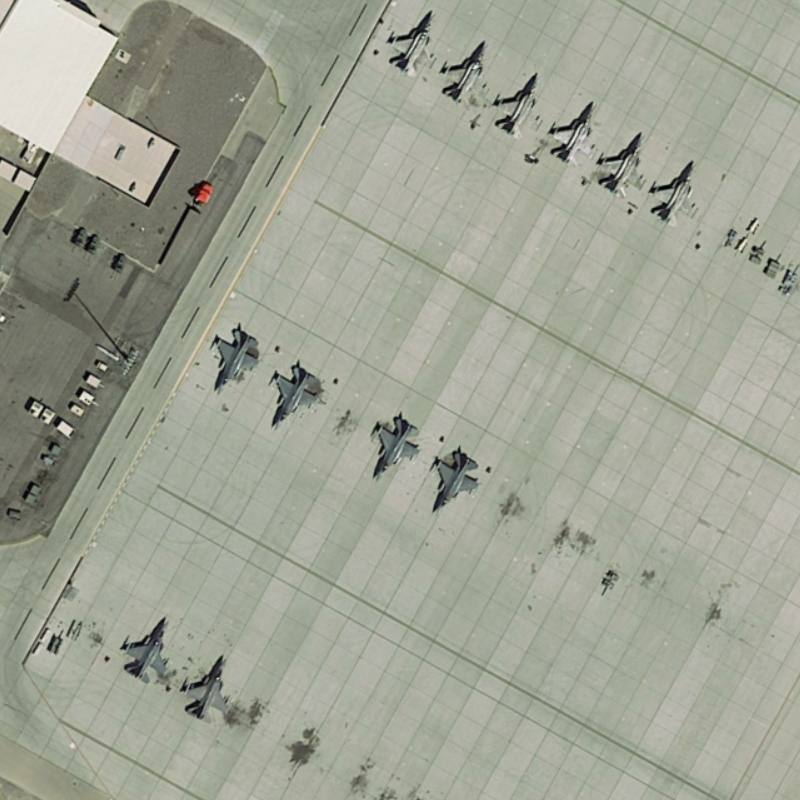A5: (114, 607, 177, 690), (178, 644, 241, 727), (263, 356, 327, 433), (437, 38, 498, 118), (375, 6, 438, 83), (205, 321, 266, 398), (541, 95, 604, 169), (428, 442, 485, 523), (365, 406, 423, 485), (490, 70, 550, 142), (645, 153, 704, 225), (593, 128, 650, 201)
